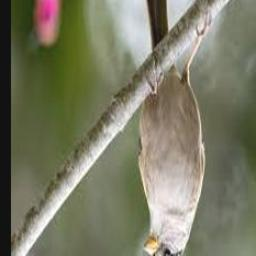Sparrow: (137, 0, 211, 256)
